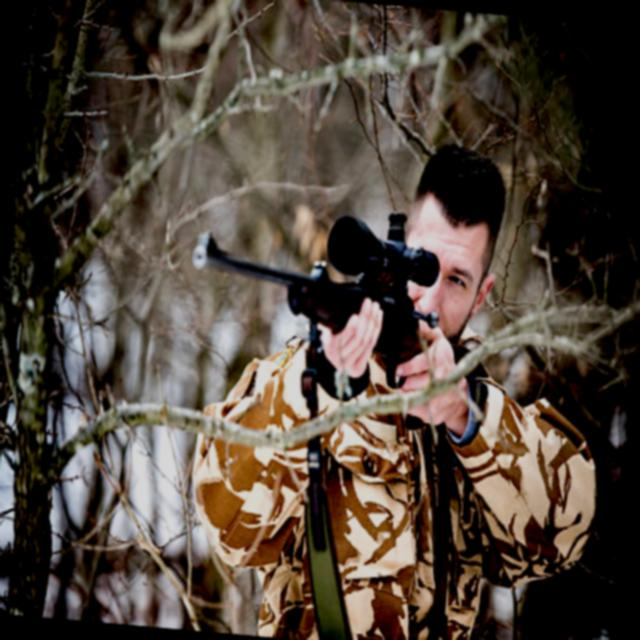rifle: (176, 190, 453, 370)
